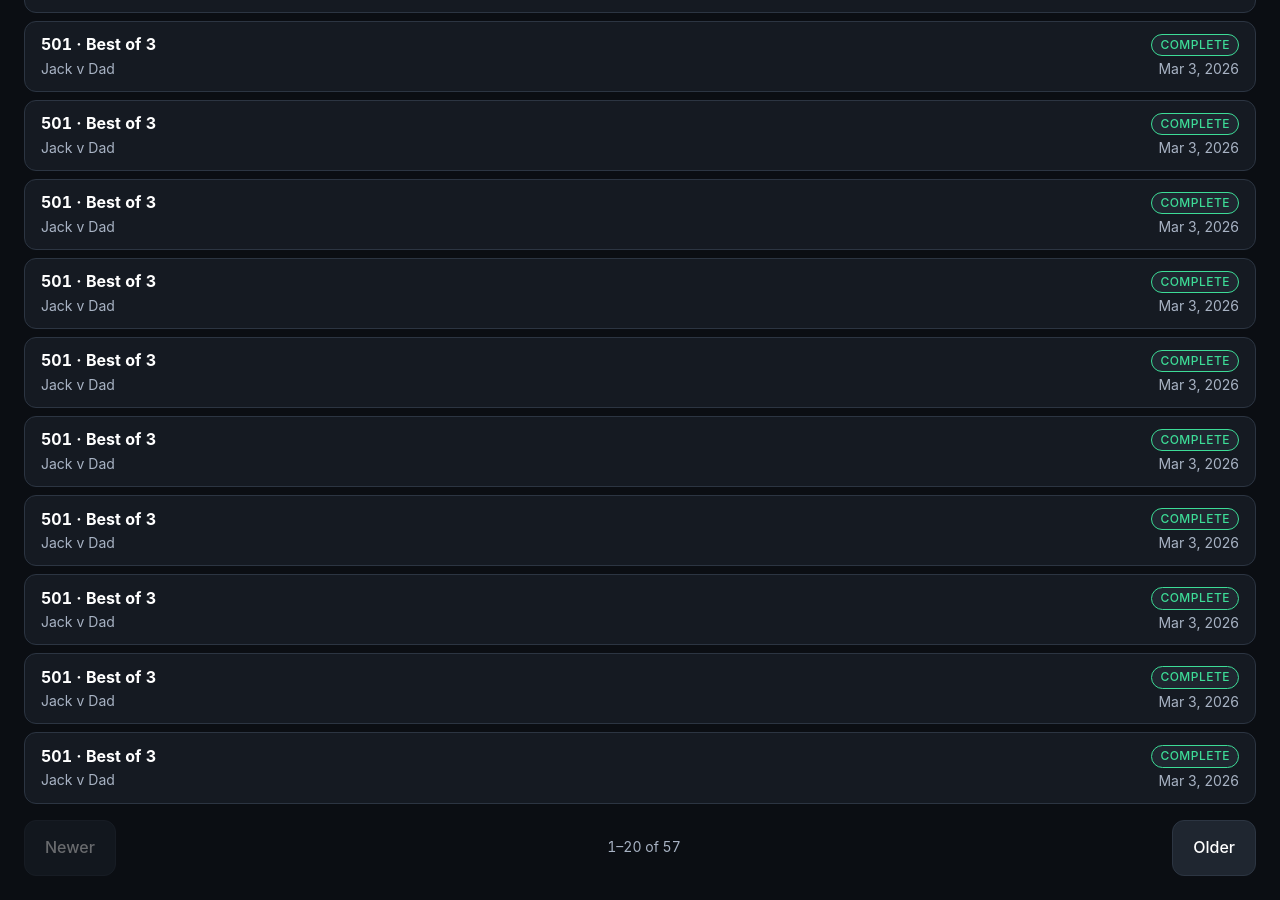
Test case: the history list › pages forward by asking for the next offset, not by slicing what it had
(page scrolled)
Check: the text "1–20 of 57" is shown, box [607, 838, 681, 857]
Click the button "Older" at (1214, 848), box [1172, 820, 1256, 876]
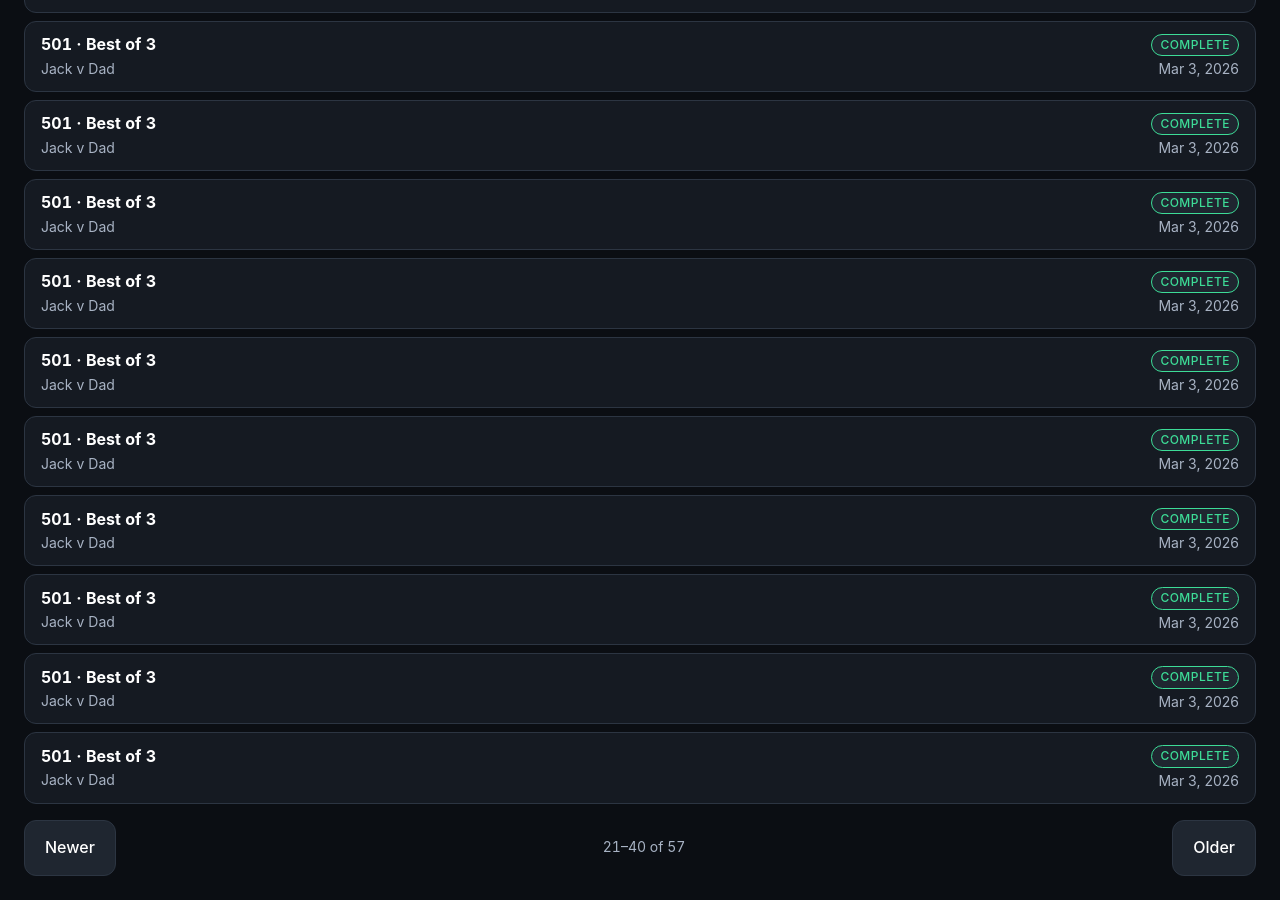
Check: the text "21–40 of 57" is shown, box [603, 838, 685, 857]
